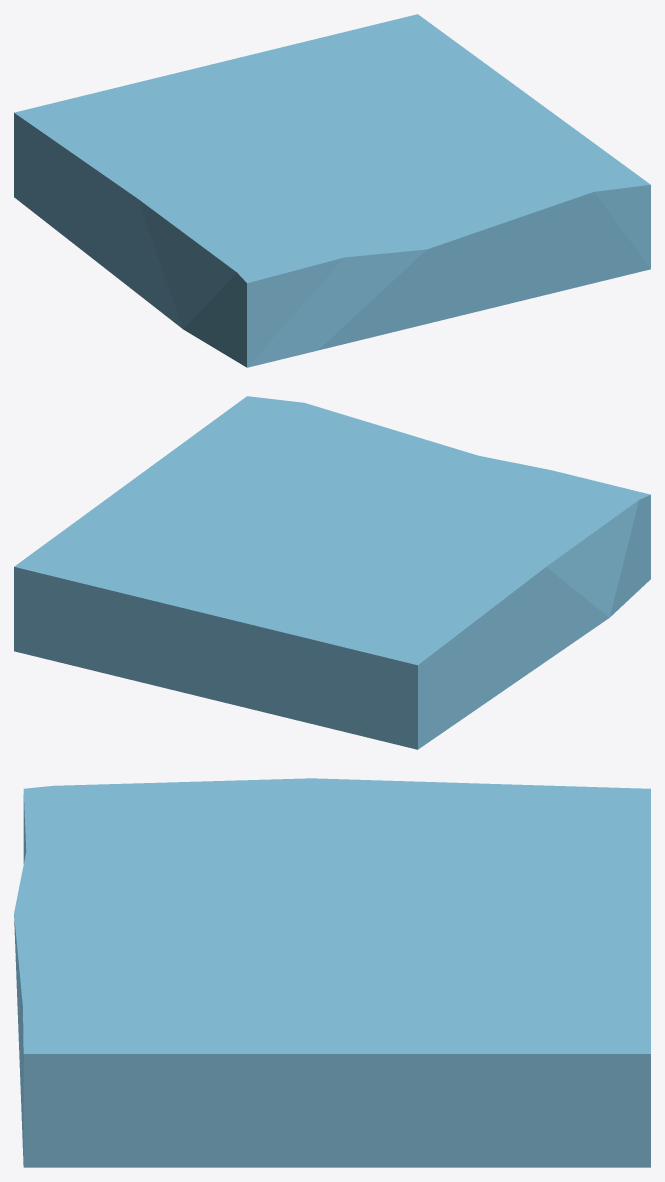
The model's file is bottom_slice.fbx.
3 views of the same model, one above another, from view 1: azimuth 30°, elevation 25°; view 2: azimuth 150°, elevation 25°; view 3: azimuth 270°, elevation 25° (orthographic). The views are drawn at different scales.
Parts seen in each view (by area): view 1: Cube; view 2: Cube; view 3: Cube.
Boxes of the visible parts, x1,y1,x2,y2 form: Cube: (14,14,650,367); Cube: (14,396,650,749); Cube: (14,778,650,1167).
Size of the model in its own units: 206 by 43.35 by 203.
